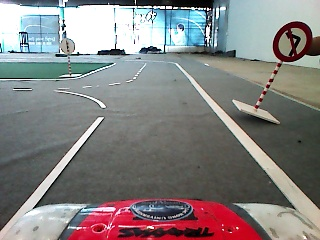ban: (272, 20, 313, 68)
